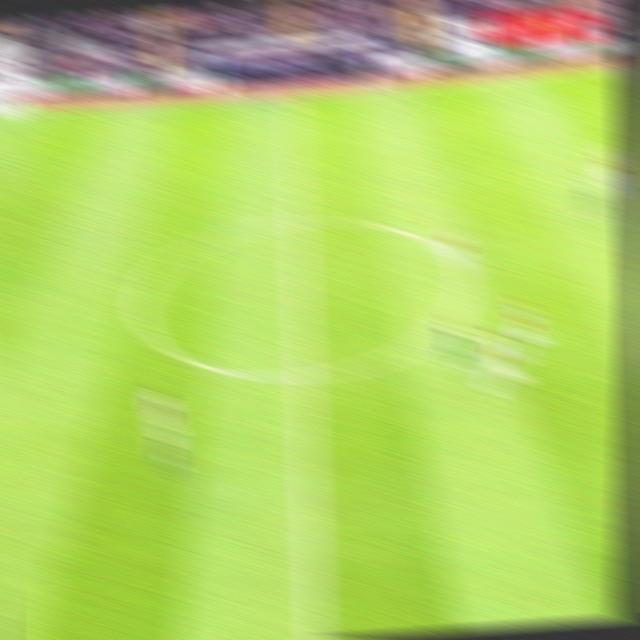halfcircle_bottom: (283, 352, 329, 397)
halfcircle_top: (276, 200, 321, 242)
midline_top_intersection: (270, 70, 316, 122)
